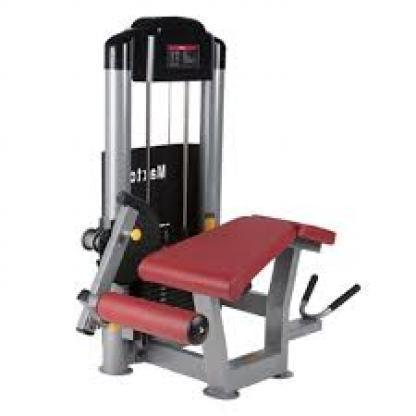reg curl machine: (73, 15, 363, 402)
